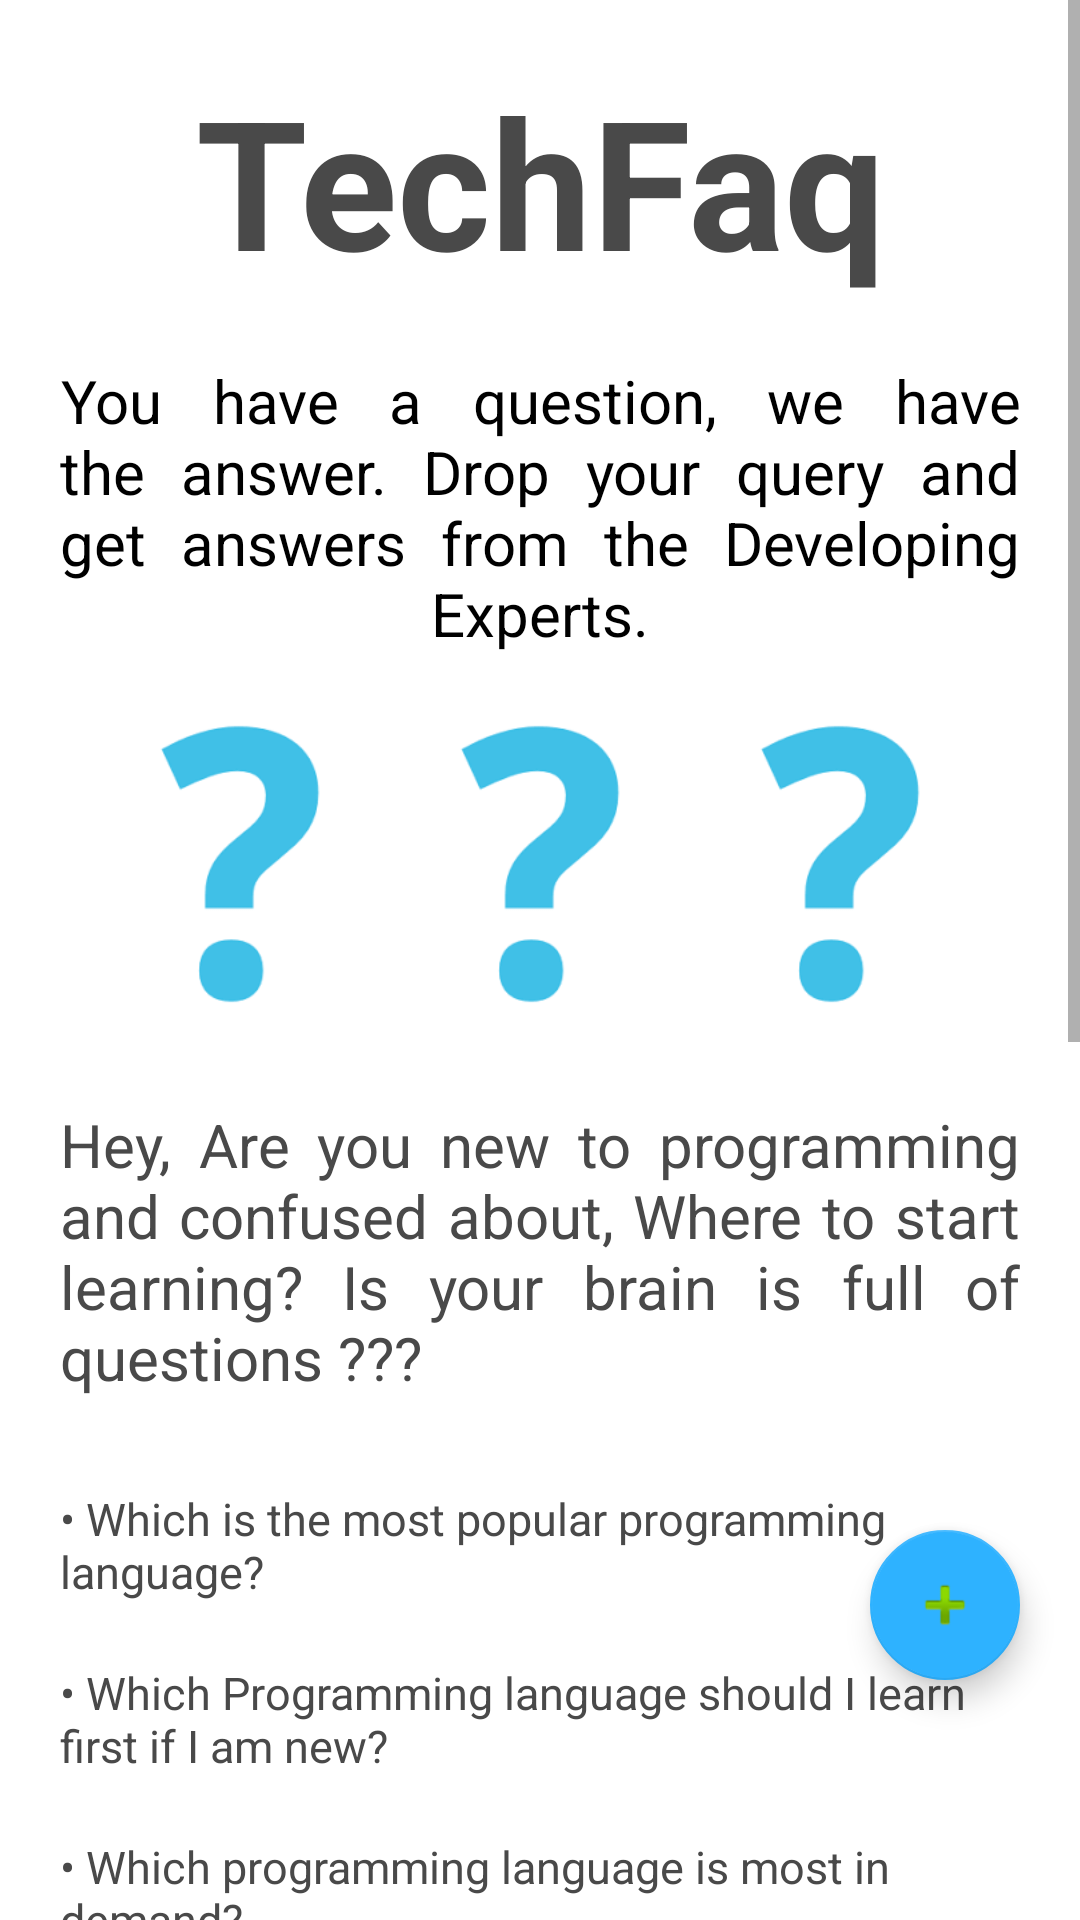

Screen size 1080px×1920px. Icon name, then its center in pixels as (x=x, y=y):
add: (x=945, y=1605)
